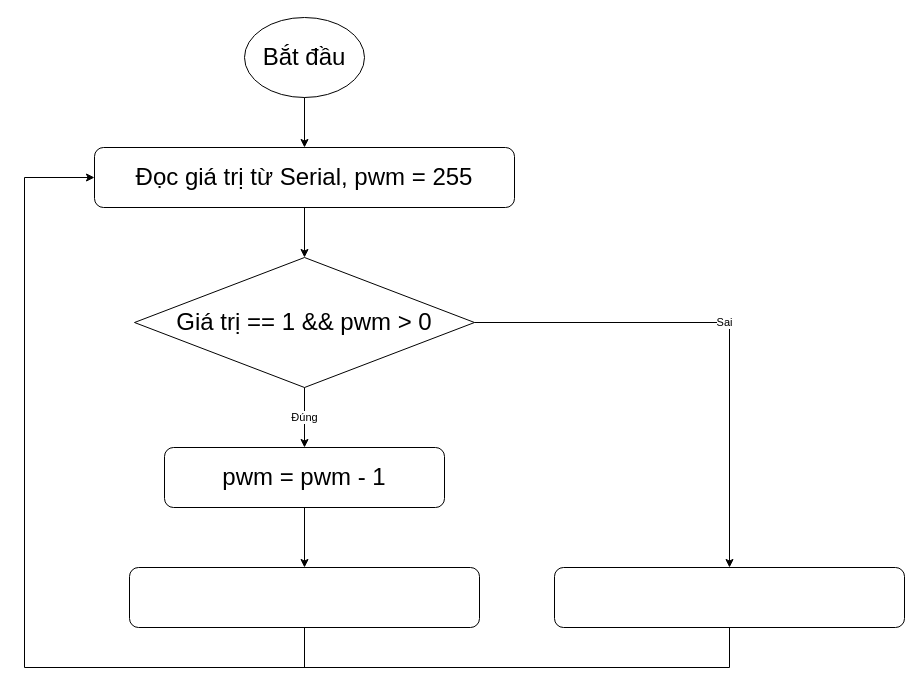
The diagram is 922 pixels wide and 693 high, and some of its shapes have lost their labels. The centre of each missing label's shape, as x and y in pixels:
Analog Write mosfet = 0: [729,597]
Analog Write mosfet = pwm: [304,597]
